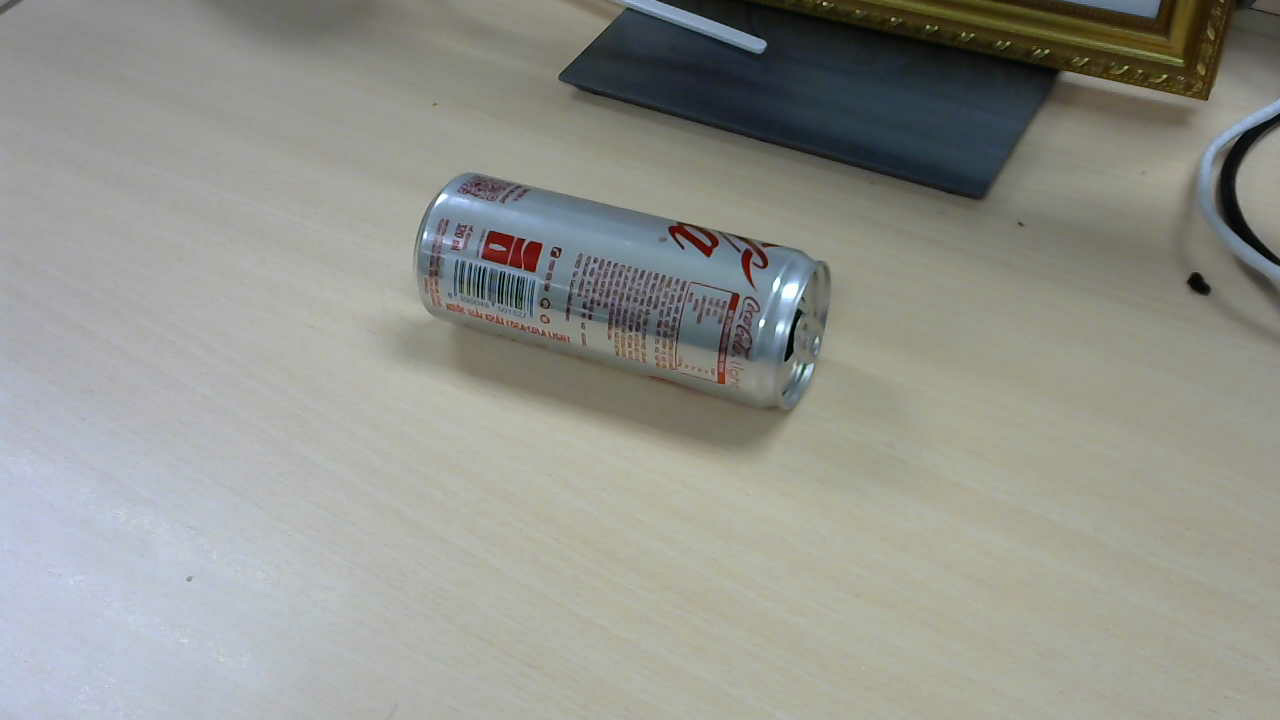Coca_Cola: (417, 176, 839, 416)
